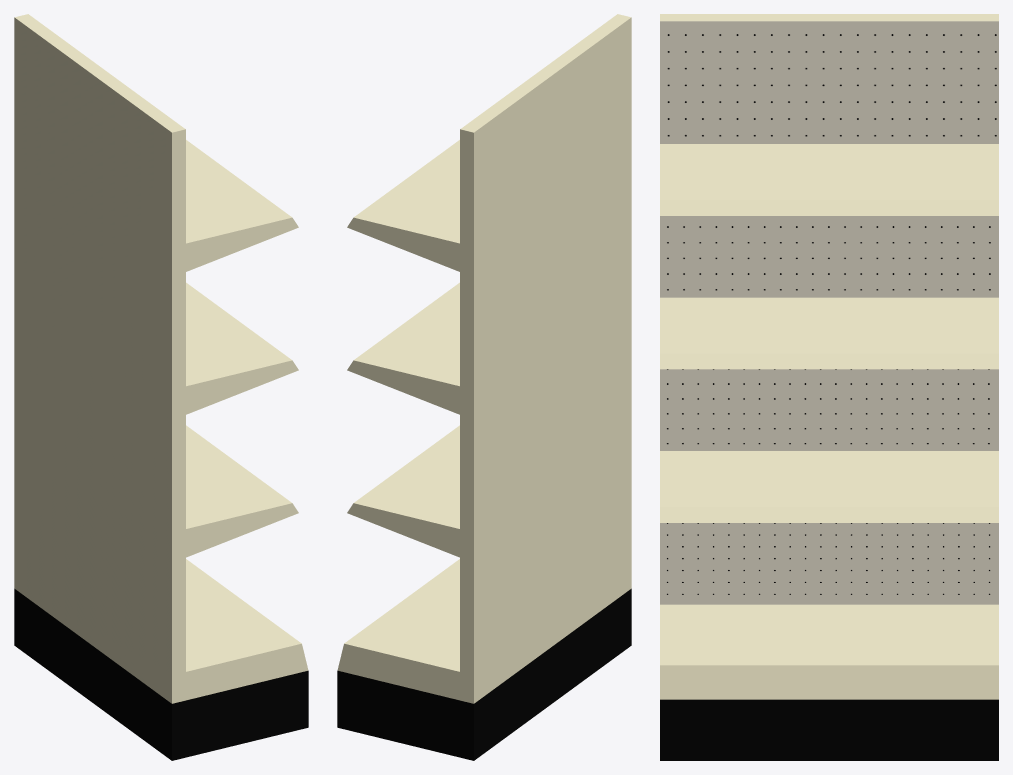
File: shelf-a.glb
The picture shows the model from 3 angles, left to right: view 1: azimuth 30°, elevation 25°; view 2: azimuth 150°, elevation 25°; view 3: azimuth 270°, elevation 25°; orthographic projection. The views are drawn at different scales.
Parts seen in each view (by area): view 1: Cube; view 2: Cube; view 3: Cube.
Boxes of the visible parts, x1,y1,x2,y2 form: Cube: (14,14,308,760); Cube: (337,14,631,760); Cube: (660,14,998,760).
Size of the model in its own units: 0.5 by 2.2 by 1.
3 materials, 1 textured.
